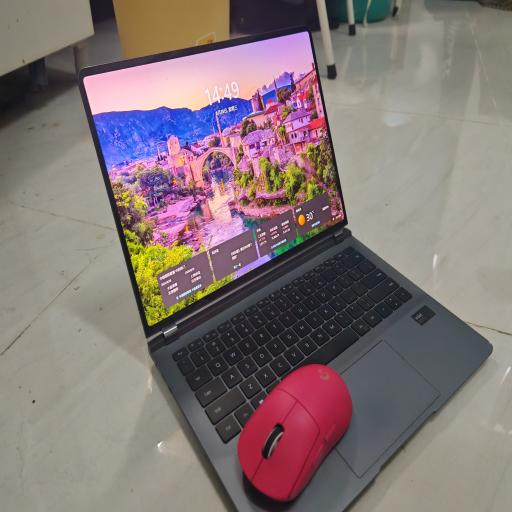laptop: (79, 27, 492, 511), (340, 169, 343, 175)
mouse: (238, 364, 352, 501)
